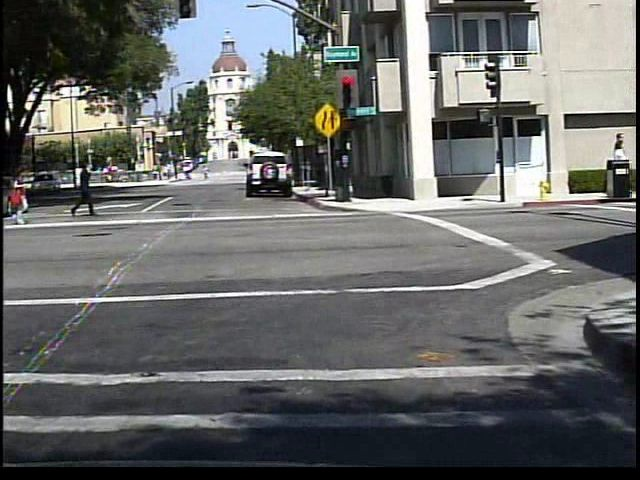person: (64, 158, 102, 222), (8, 166, 31, 229), (197, 162, 208, 182), (179, 166, 189, 183)
